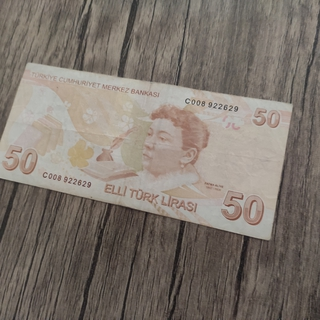50TLBack: (0, 61, 294, 241)
